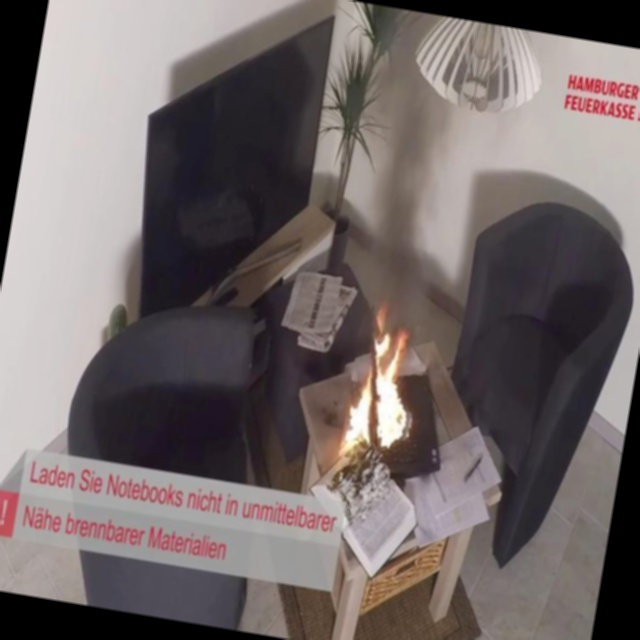fire: (332, 310, 439, 463)
